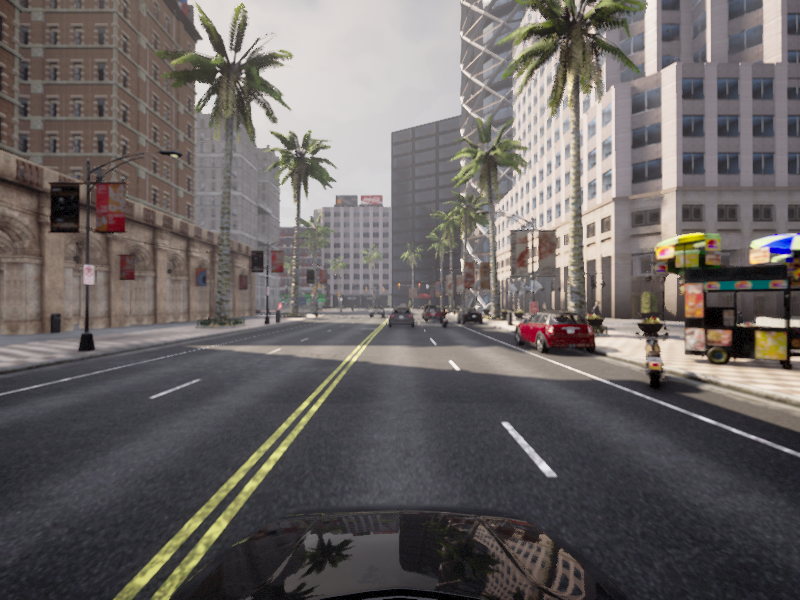vehicle: (387, 306, 415, 328), (423, 306, 444, 322), (438, 307, 450, 328)
